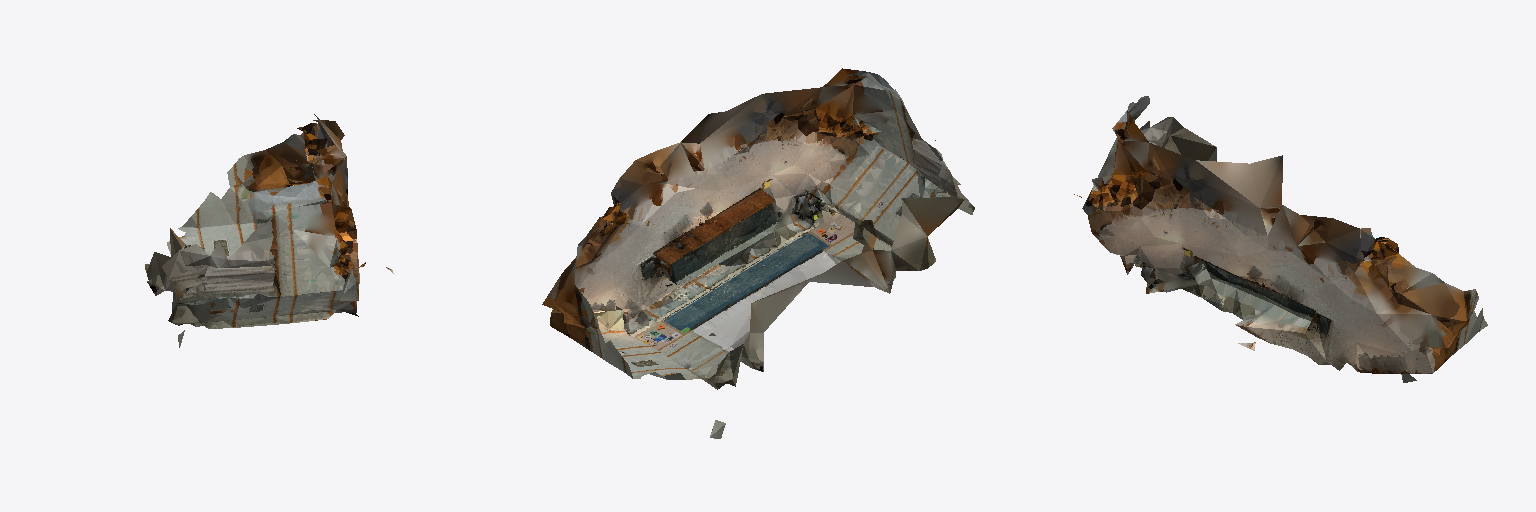
3 views of the same model, side by side, from view 1: azimuth 30°, elevation 25°; view 2: azimuth 150°, elevation 25°; view 3: azimuth 270°, elevation 25° (orthographic).
Size of the model in its own units: 35.08 by 31.64 by 44.43.
Materials: 1 (1 with a texture image).